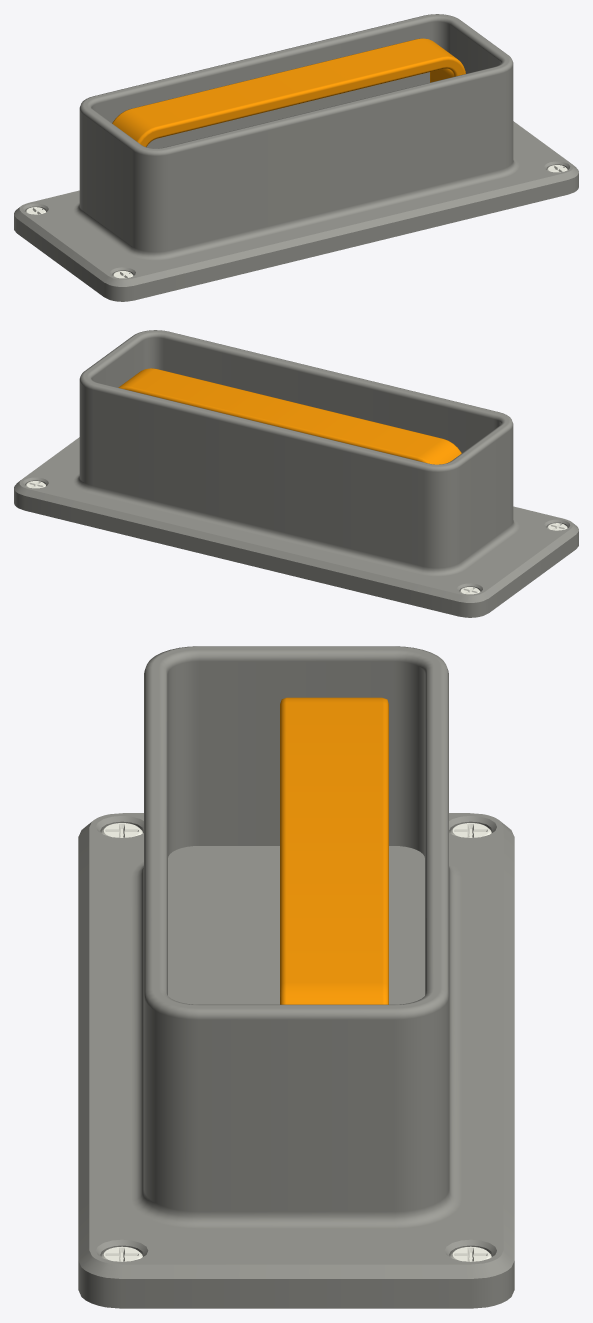
File: Socket #8.fbx
3 views of the same model, one above another, from view 1: azimuth 30°, elevation 25°; view 2: azimuth 150°, elevation 25°; view 3: azimuth 270°, elevation 25° (orthographic). The views are drawn at different scales.
Visible parts, largest first — view 1: kitbash_84; view 2: kitbash_84; view 3: kitbash_84.
Boxes of the visible parts, box(x1,y1,x2,y2) form: kitbash_84: box(14, 14, 578, 301); kitbash_84: box(14, 330, 578, 617); kitbash_84: box(78, 646, 514, 1308).
Size of the model in its own units: 5 by 1.27 by 2.
